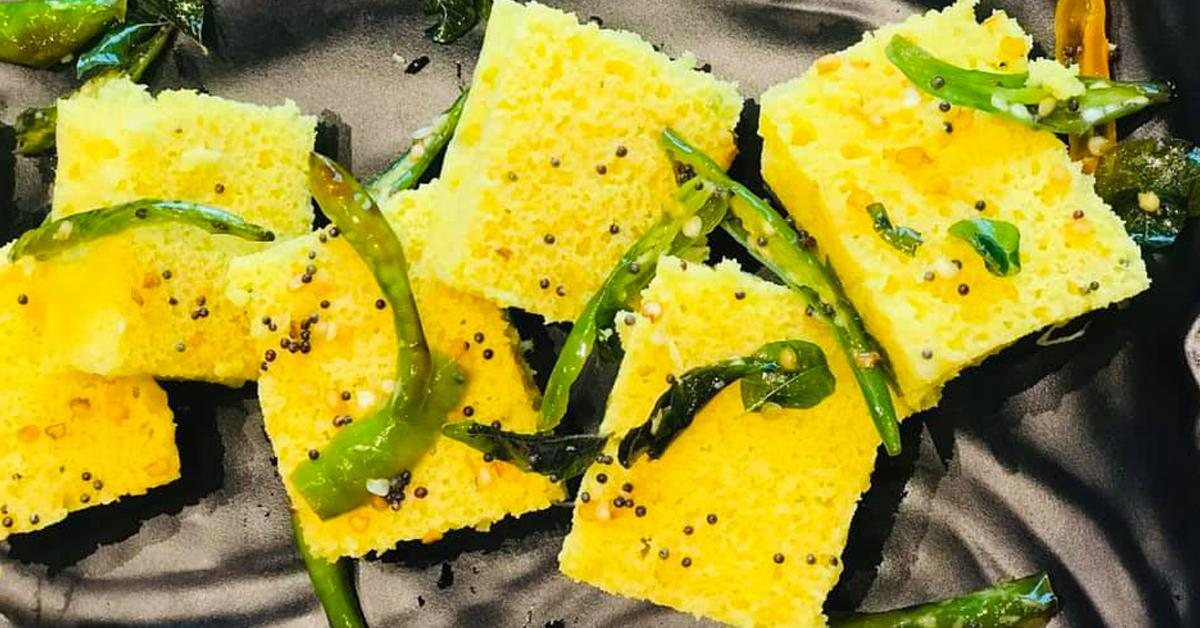dhokla: (7, 3, 1188, 628)
